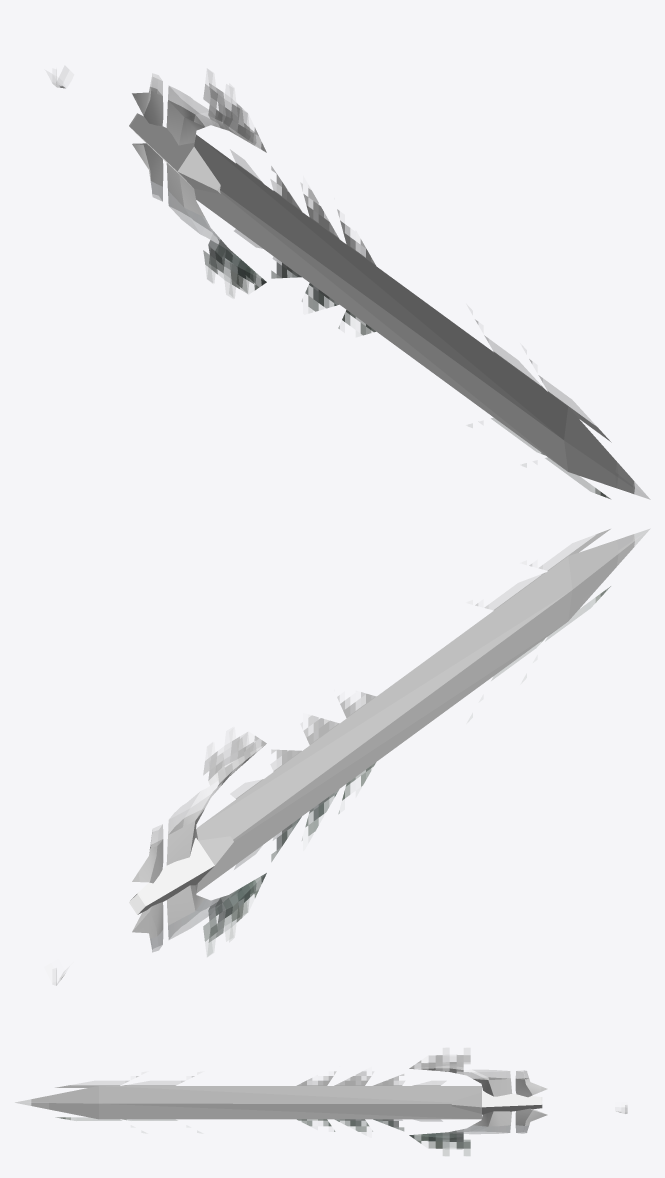
The model's file is mg_weapon_rune_blade.glb.
3 renders of one model, top to bottom at view 1: azimuth 30°, elevation 25°; view 2: azimuth 150°, elevation 25°; view 3: azimuth 270°, elevation 25°, orthographic. The views are drawn at different scales.
Visible parts, largest first — view 1: module_MG_weapon_rune_blade; view 2: module_MG_weapon_rune_blade; view 3: module_MG_weapon_rune_blade.
Part boxes in pixels (x1=…): module_MG_weapon_rune_blade: x1=52, y1=69, x2=650, y2=499; module_MG_weapon_rune_blade: x1=52, y1=529, x2=649, y2=985; module_MG_weapon_rune_blade: x1=15, y1=1048, x2=627, y2=1155.
Size of the model in its own units: 0.0699 by 0.4299 by 2.
Materials: 2 (2 with a texture image).
